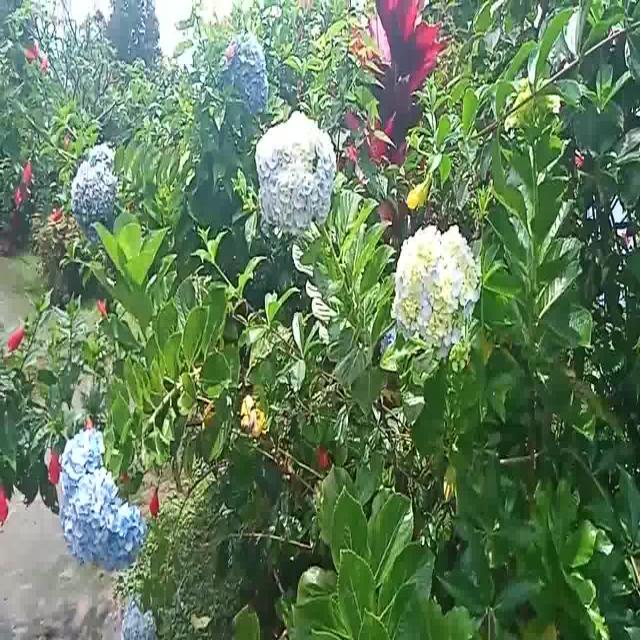Flower: (390, 221, 482, 364), (63, 425, 147, 573), (258, 114, 336, 230), (71, 143, 119, 230), (224, 29, 269, 112), (121, 598, 156, 640), (8, 320, 26, 360), (47, 440, 61, 486), (0, 479, 10, 532), (149, 481, 161, 518)
